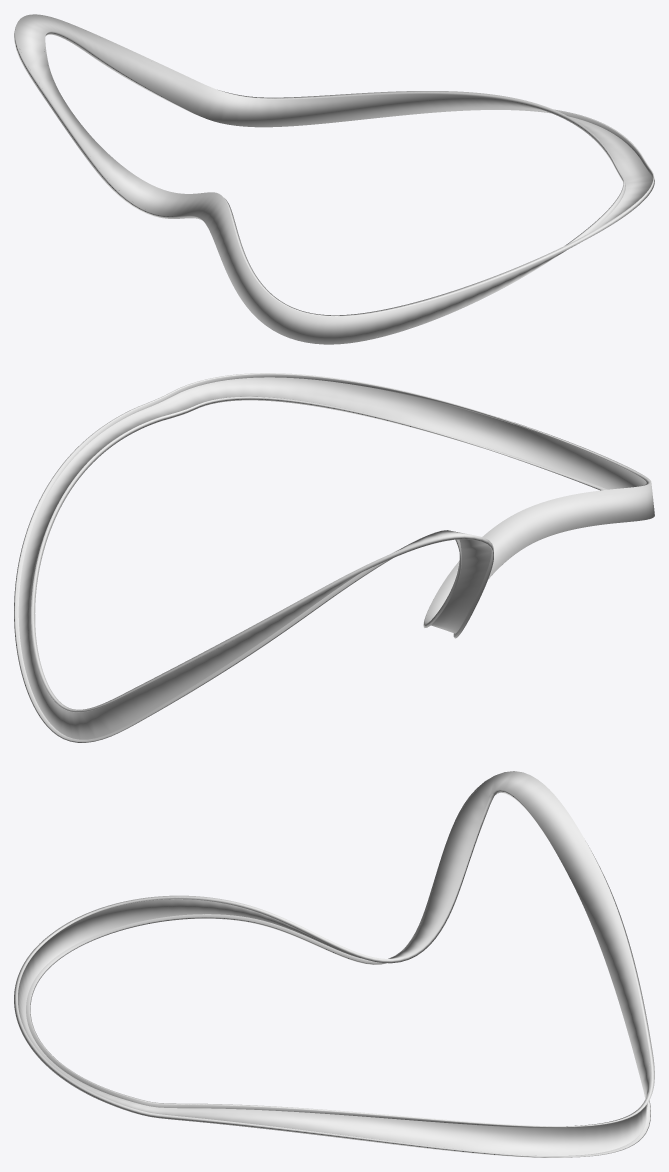
Rendered from LoopMap_walls.fbx.
The picture shows the model from 3 angles, top to bottom: view 1: azimuth 30°, elevation 25°; view 2: azimuth 150°, elevation 25°; view 3: azimuth 270°, elevation 25°; orthographic projection. The views are drawn at different scales.
Parts seen in each view (by area): view 1: loftedSurface5; view 2: loftedSurface5; view 3: loftedSurface5.
Part boxes in pixels (x1,y1,x2,y2): loftedSurface5: (14,14,654,344); loftedSurface5: (14,373,654,742); loftedSurface5: (14,771,654,1157).
Bounding box in the file's own units: 1390 × 599 × 1590.
Materials: 1 (1 with a texture image).
